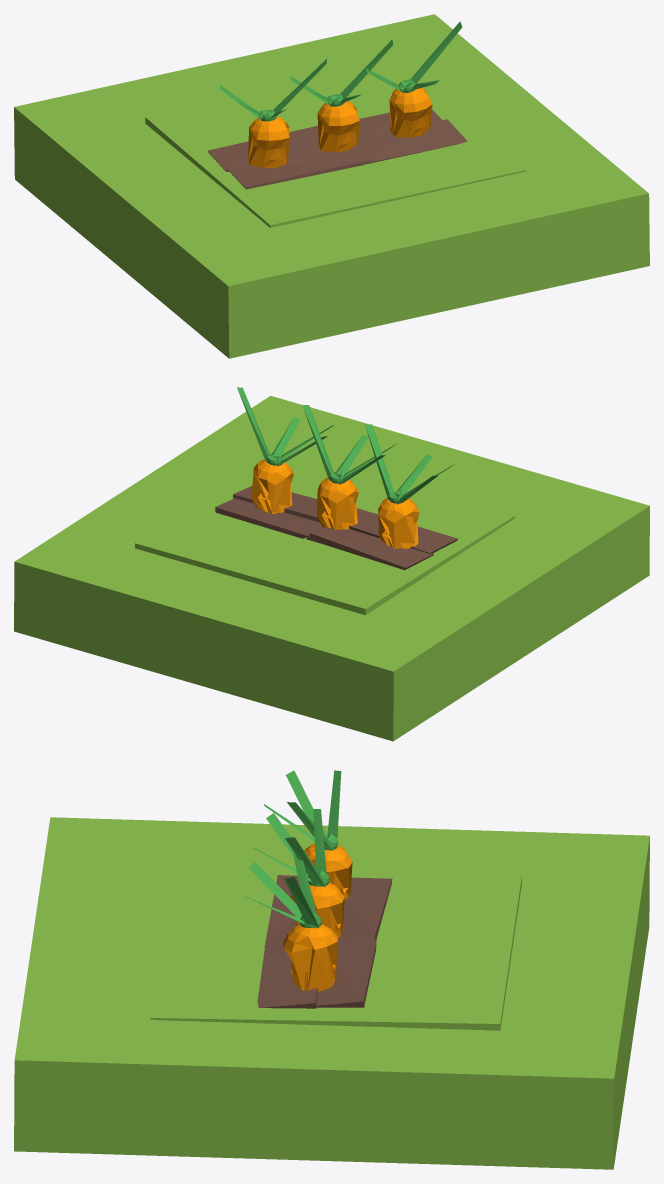
The picture shows the model from 3 angles, top to bottom: view 1: azimuth 30°, elevation 25°; view 2: azimuth 150°, elevation 25°; view 3: azimuth 270°, elevation 25°; orthographic projection. The views are drawn at different scales.
Parts seen in each view (by area): view 1: mesh_1537693769, group_1759648395; view 2: mesh_1537693769, group_1759648395; view 3: mesh_1537693769, group_1759648395.
Boxes of the visible parts, <box> form: mesh_1537693769: <box>14,14,649,358</box>; group_1759648395: <box>145,21,525,227</box>; mesh_1537693769: <box>14,396,649,741</box>; group_1759648395: <box>135,387,514,615</box>; mesh_1537693769: <box>14,817,649,1169</box>; group_1759648395: <box>150,770,521,1030</box>.
Bounding box in the file's own units: 49.9 × 20.75 × 50.81.
